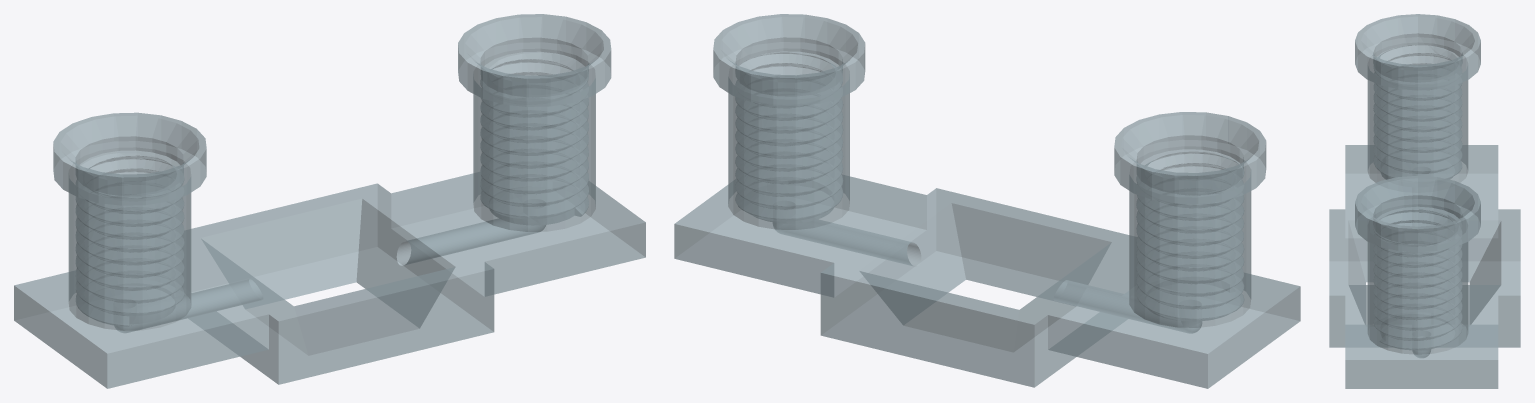
Rendered from spatial-chamber.glb.
The picture shows the model from 3 angles, left to right: view 1: azimuth 30°, elevation 25°; view 2: azimuth 150°, elevation 25°; view 3: azimuth 270°, elevation 25°; orthographic projection. The views are drawn at different scales.
Visible parts, largest first — view 1: chip.stl; view 2: chip.stl; view 3: chip.stl.
Part boxes in pixels (x1,y1,x2,y2): chip.stl: (14,14,645,388); chip.stl: (674,14,1300,388); chip.stl: (1329,14,1520,388).
Size of the model in its own units: 0.04 by 0.0158 by 0.015.
